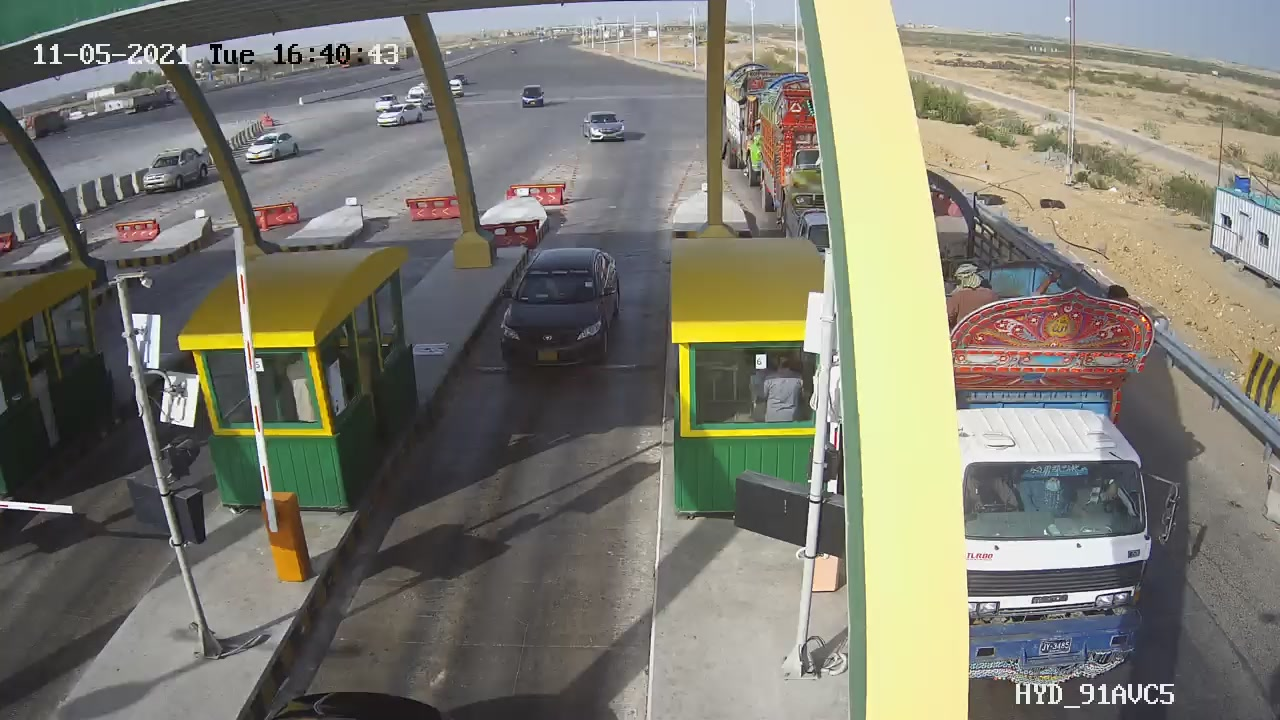F1: (488, 237, 629, 384)
